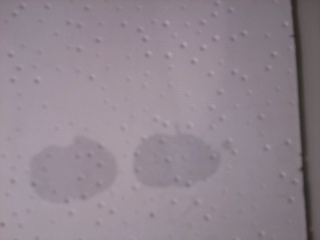Water_detected: (46, 130, 198, 191)
